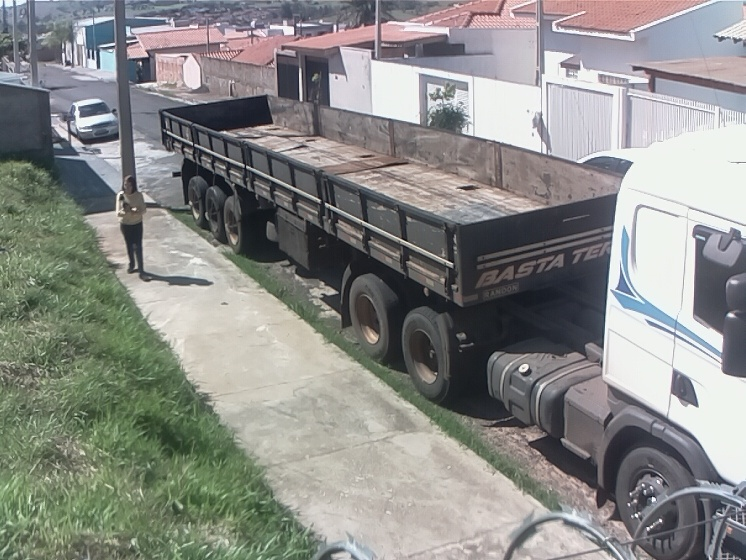person: (114, 173, 160, 284)
